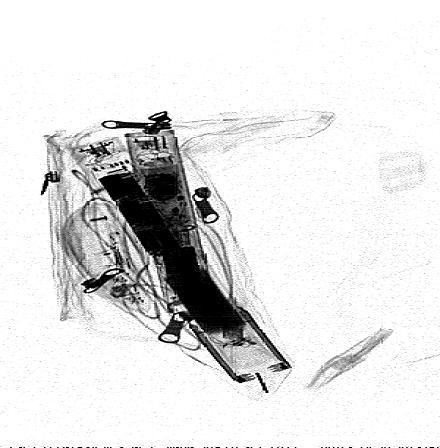Baton: (66, 136, 294, 387), (124, 129, 218, 317)
